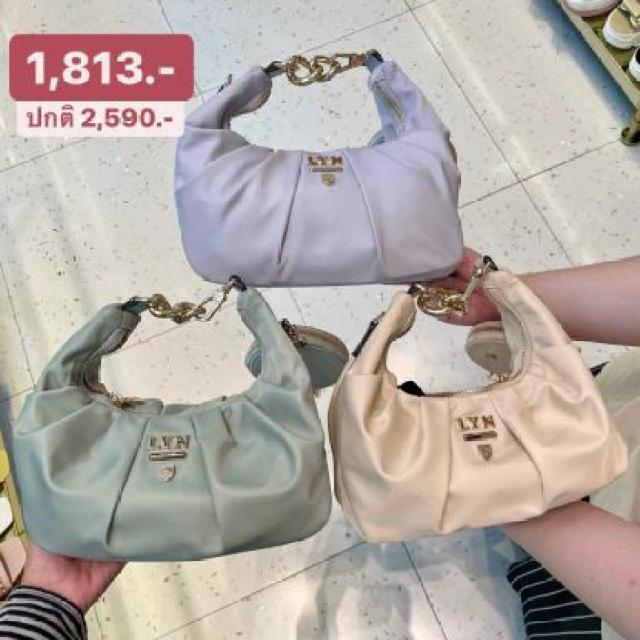Bag: (303, 242, 637, 558), (0, 289, 345, 577), (140, 38, 497, 308)
